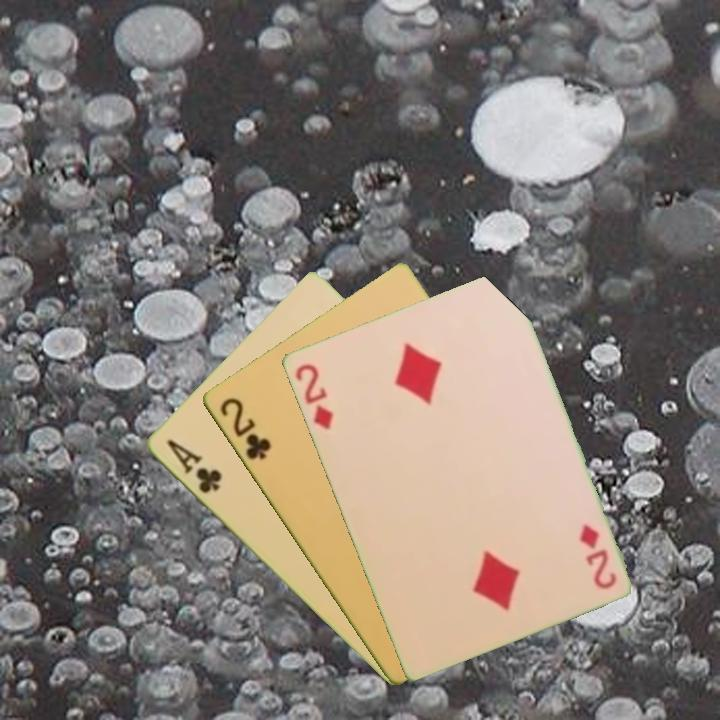2c: (215, 394, 274, 463)
2d: (291, 360, 336, 432), (575, 520, 619, 593)
Ac: (162, 435, 225, 497)
